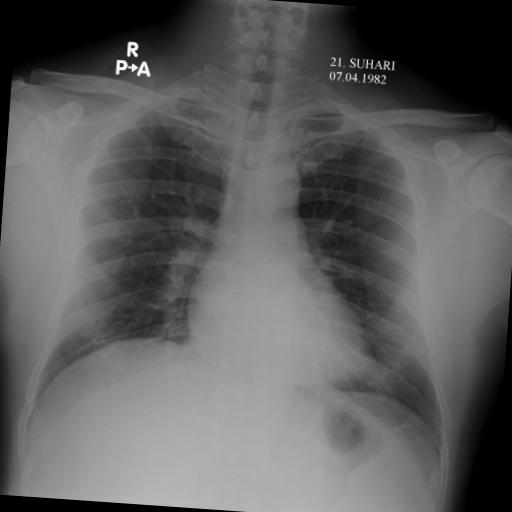kardiomegali: (19, 42, 478, 468)
